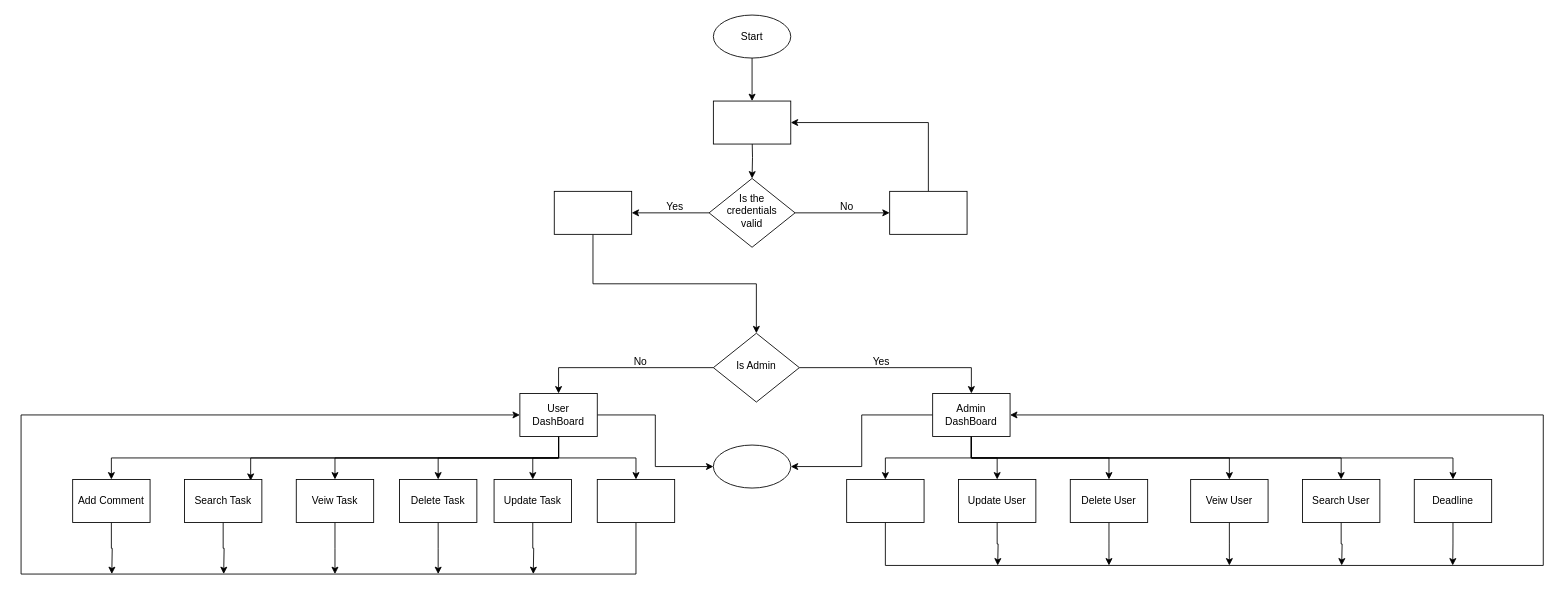
This 1565x596 diagram has some shape labels left out. Each missing label, with the box of its shape:
Add Task: (596, 479, 675, 522)
Add User: (846, 479, 924, 522)
Enter UserName and Password: (713, 100, 791, 144)
Login: (553, 190, 632, 234)
Sign Up: (889, 190, 967, 234)
Stop: (713, 444, 791, 488)
